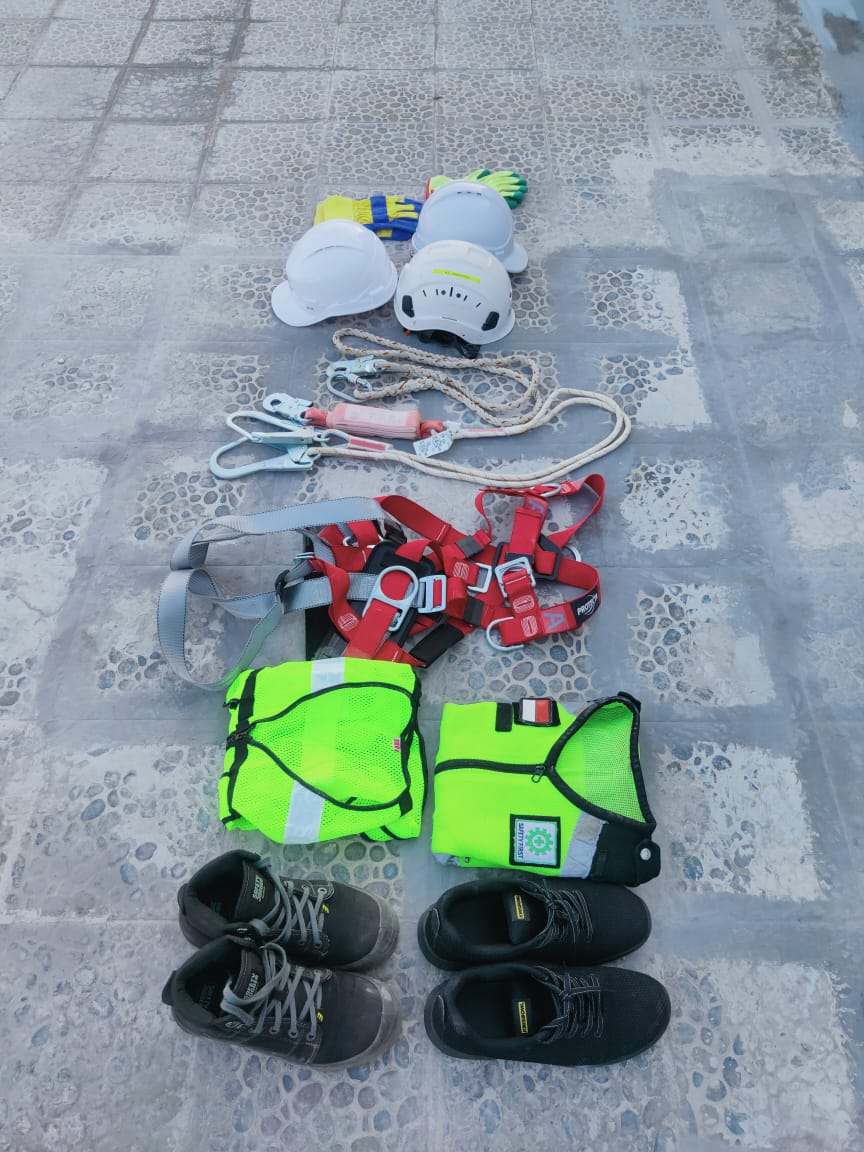HELM: (393, 242, 520, 346)
ROMPI: (445, 706, 645, 868)
SEPATU: (188, 868, 389, 1063)
TAMBANG_SLING: (291, 524, 559, 642)
